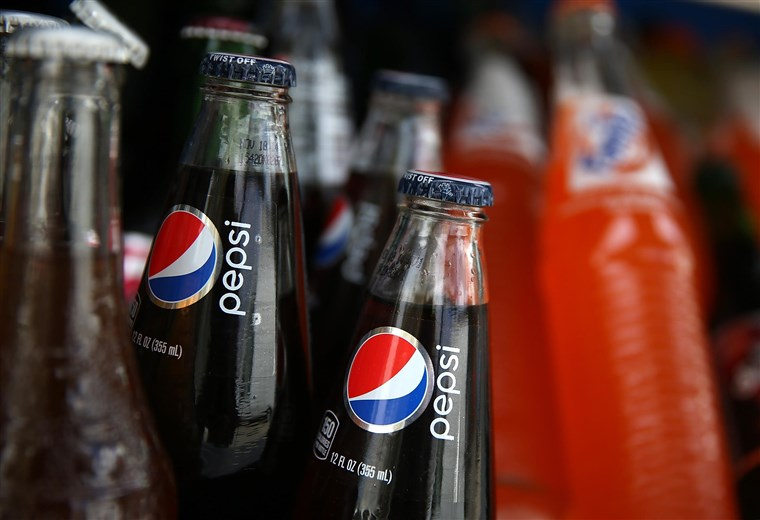pepsi: (347, 325, 430, 423), (347, 331, 430, 423), (347, 331, 428, 423), (146, 209, 218, 302), (152, 209, 218, 302)
